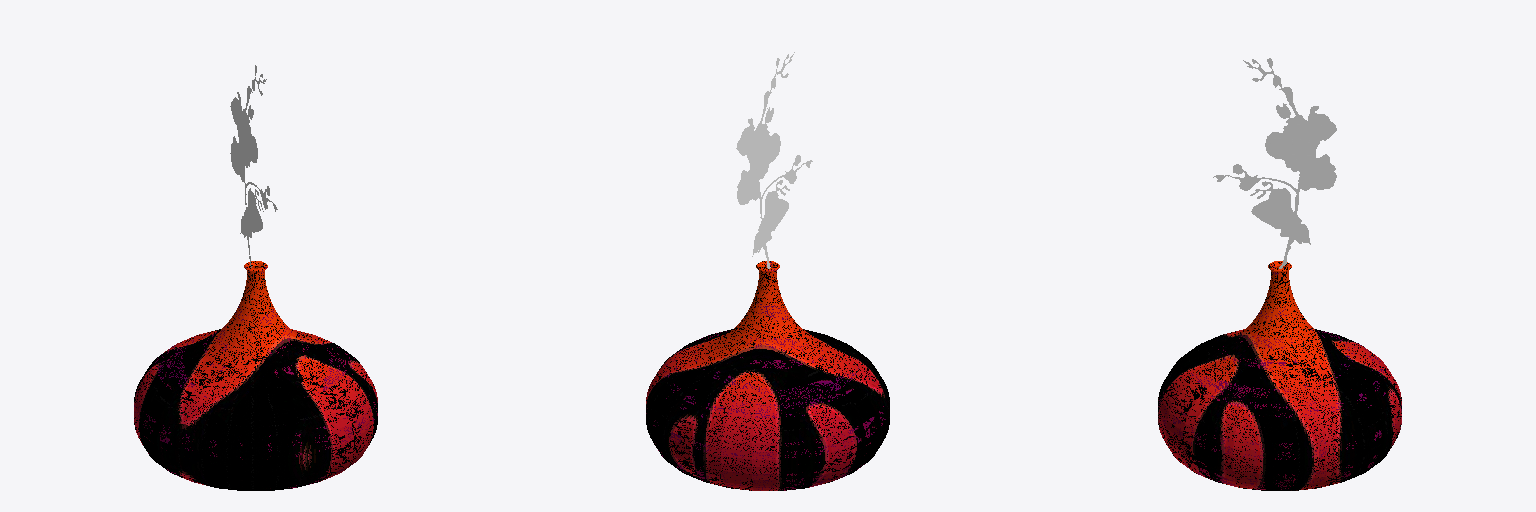
The picture shows the model from 3 angles: view 1: azimuth 30°, elevation 25°; view 2: azimuth 150°, elevation 25°; view 3: azimuth 270°, elevation 25°; orthographic projection.
Parts seen in each view (by area): view 1: mesh2_mesh2-geometry, mesh1_mesh1-geometry; view 2: mesh2_mesh2-geometry, mesh1_mesh1-geometry; view 3: mesh2_mesh2-geometry, mesh1_mesh1-geometry.
Part boxes in pixels (x1,y1,x2,y2): mesh2_mesh2-geometry: (134,261,377,490); mesh1_mesh1-geometry: (230,65,277,267); mesh2_mesh2-geometry: (646,261,889,490); mesh1_mesh1-geometry: (736,52,812,268); mesh2_mesh2-geometry: (1158,261,1401,490); mesh1_mesh1-geometry: (1213,58,1336,268).
Bounding box in the file's own units: 0.4417 × 0.7809 × 0.4417.
Materials: 3 (2 with a texture image).